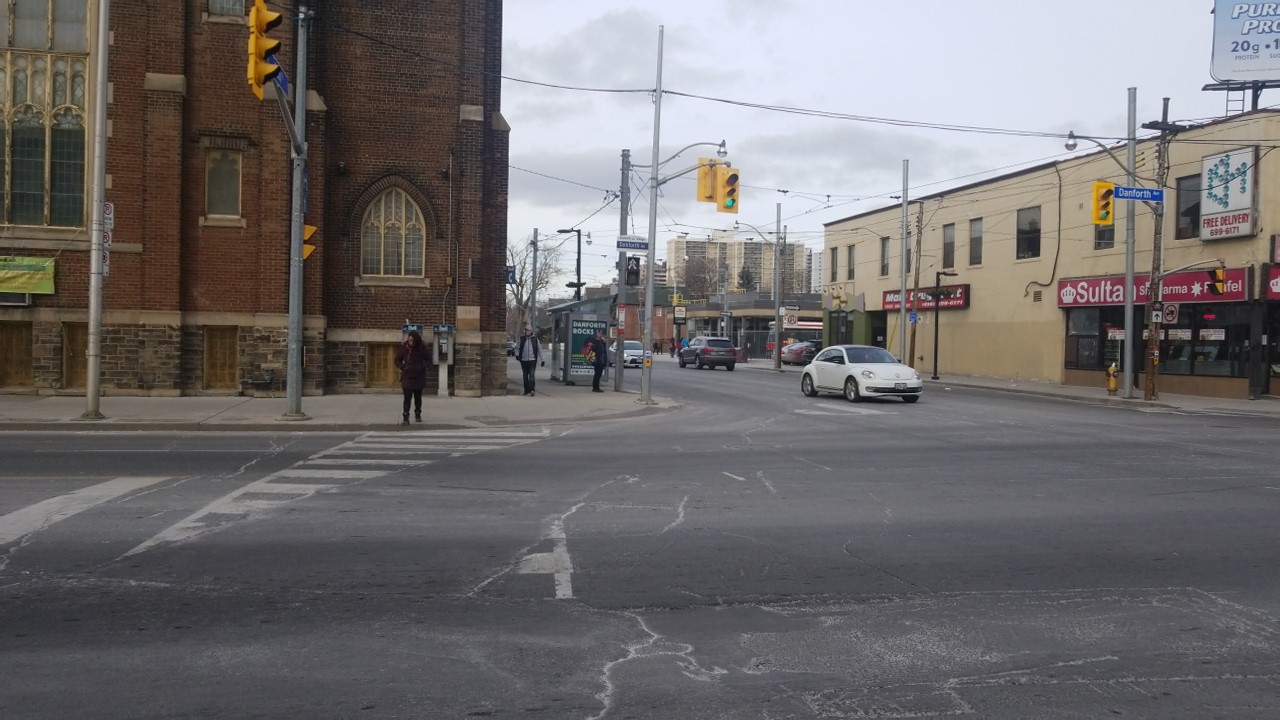light: (623, 255, 642, 289)
